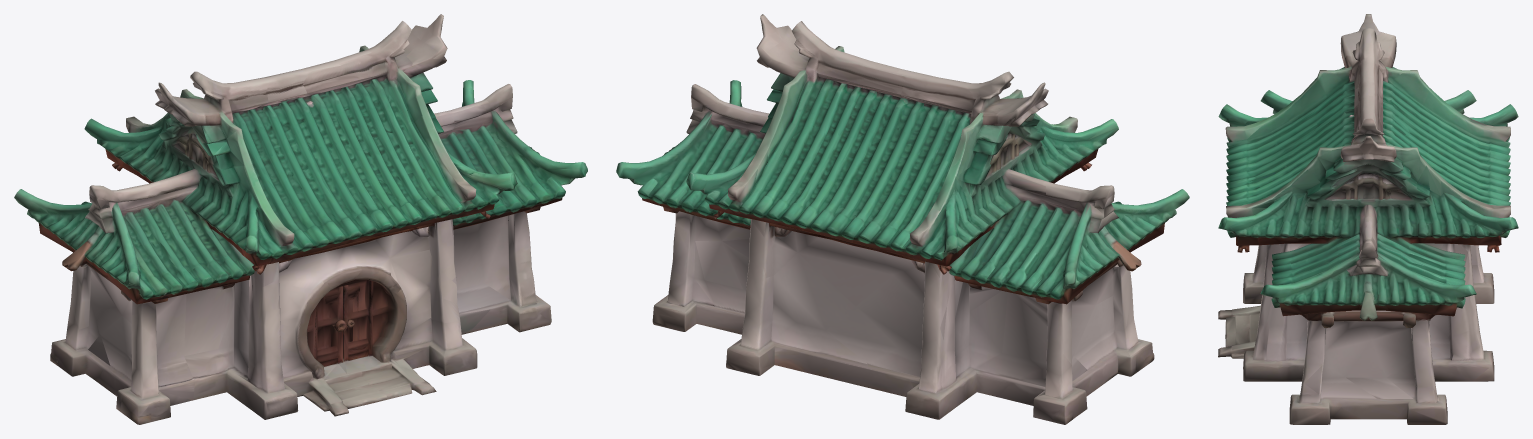
File: bld_sky_hall.fbx
3 renders of one model, left to right at view 1: azimuth 30°, elevation 25°; view 2: azimuth 150°, elevation 25°; view 3: azimuth 270°, elevation 25°, orthographic. The views are drawn at different scales.
Parts seen in each view (by area): view 1: bld_sky_hall_LOD0; view 2: bld_sky_hall_LOD0; view 3: bld_sky_hall_LOD0.
Part boxes in pixels (x1,y1,x2,y2): bld_sky_hall_LOD0: [14, 14, 587, 424]; bld_sky_hall_LOD0: [616, 14, 1189, 424]; bld_sky_hall_LOD0: [1218, 14, 1518, 424].
Size of what is drawn, in the model's own units: 0.9809 by 0.5882 by 0.6092.
